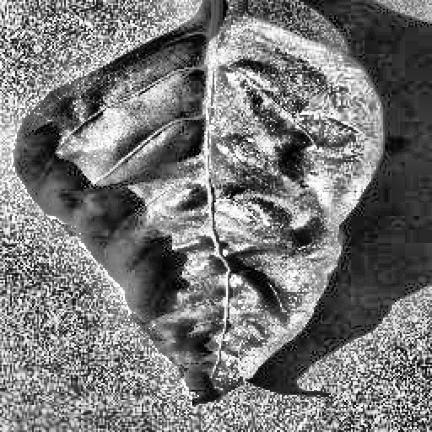leaf: (14, 0, 383, 402)
